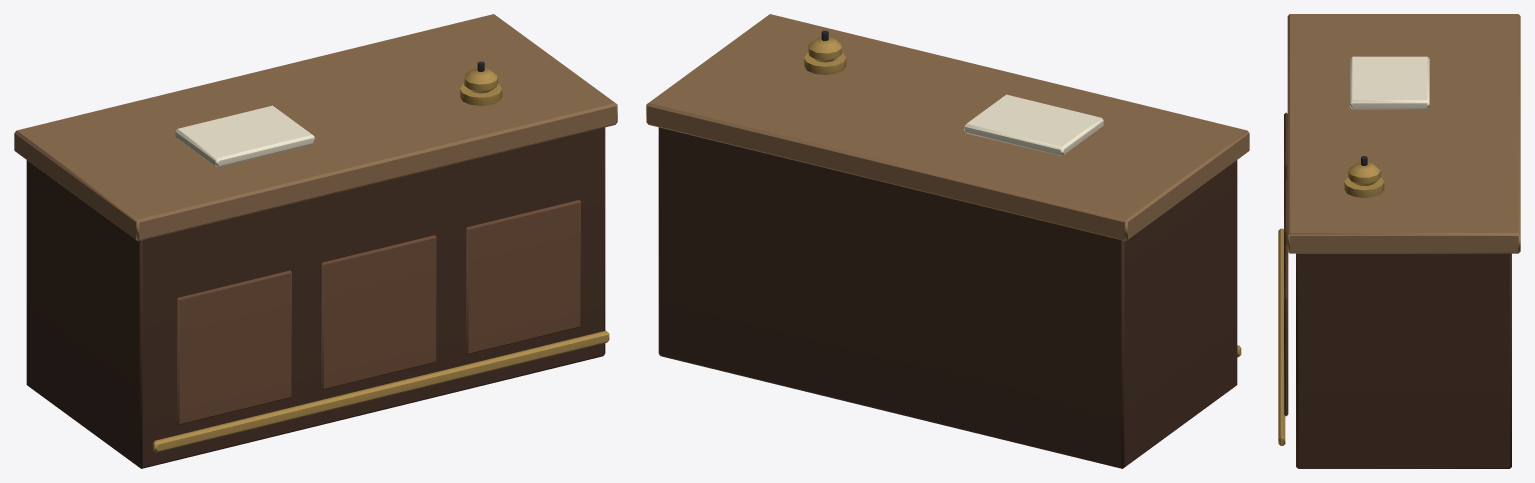
The model's file is counter_reception.glb.
The picture shows the model from 3 angles, left to right: view 1: azimuth 30°, elevation 25°; view 2: azimuth 150°, elevation 25°; view 3: azimuth 270°, elevation 25°; orthographic projection. The views are drawn at different scales.
Parts seen in each view (by area): view 1: counter_reception; view 2: counter_reception; view 3: counter_reception.
Boxes of the visible parts, x1,y1,x2,y2 form: counter_reception: (14,14,617,468); counter_reception: (646,14,1249,468); counter_reception: (1278,14,1520,468).
Bounding box in the file's own units: 1.84 × 1.05 × 0.8525.
